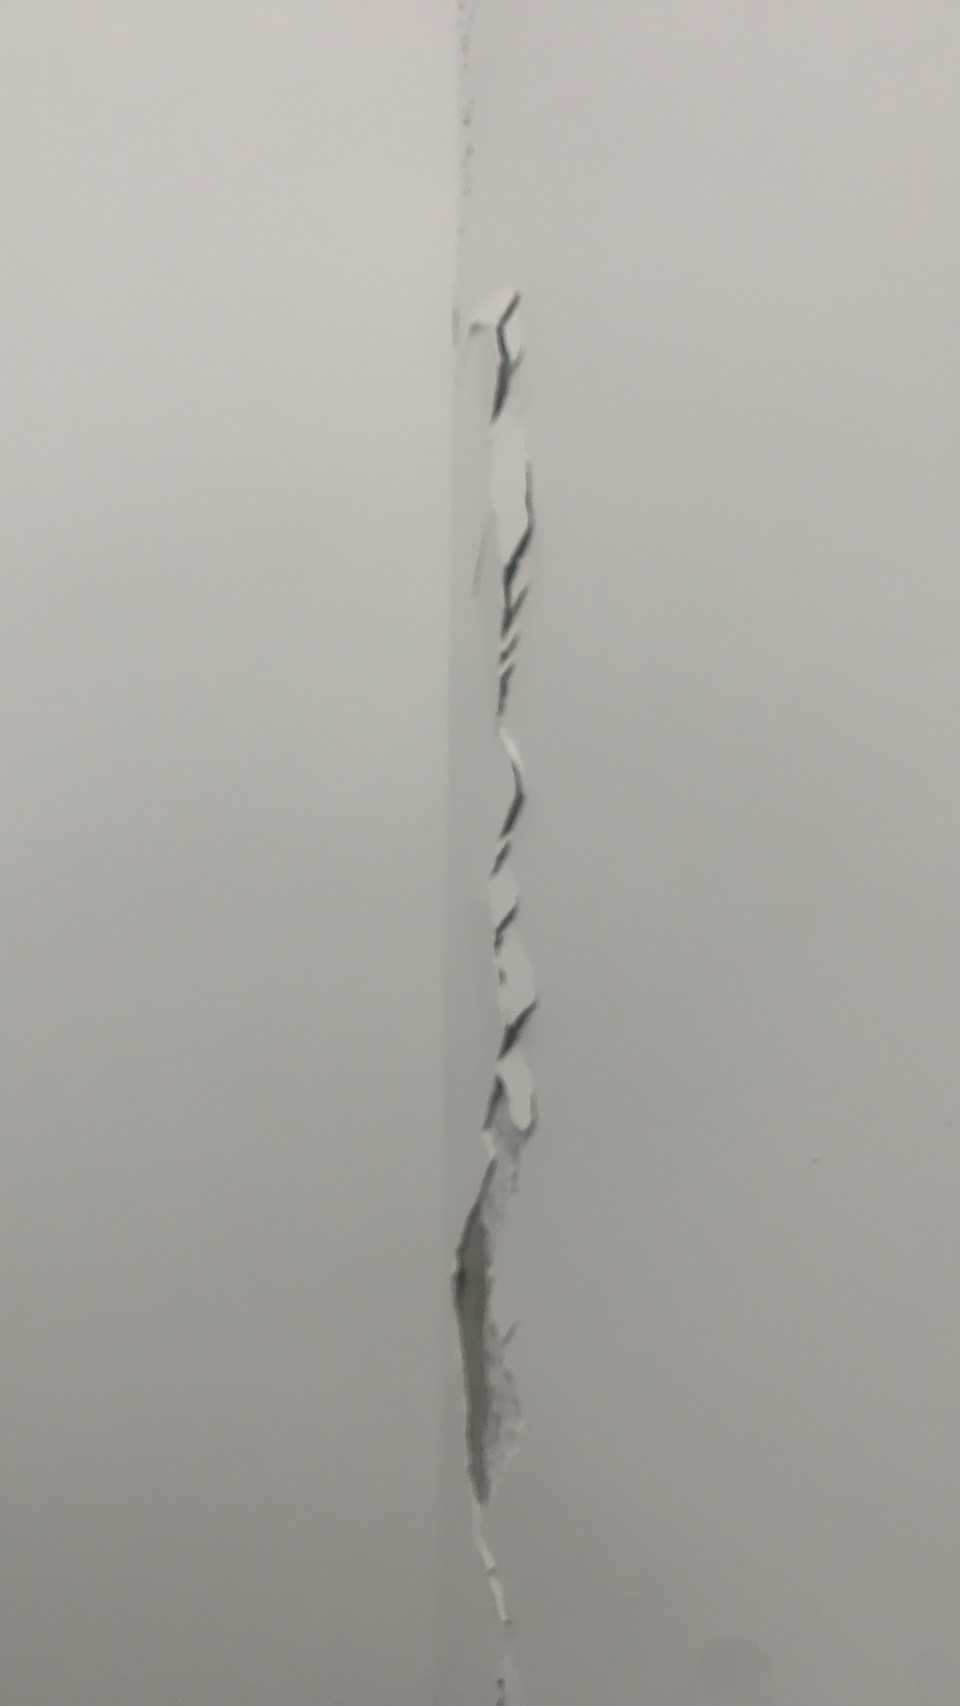Low: (356, 209, 678, 1706)
